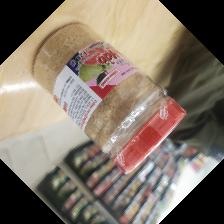Hao_hao: (32, 21, 186, 176)
